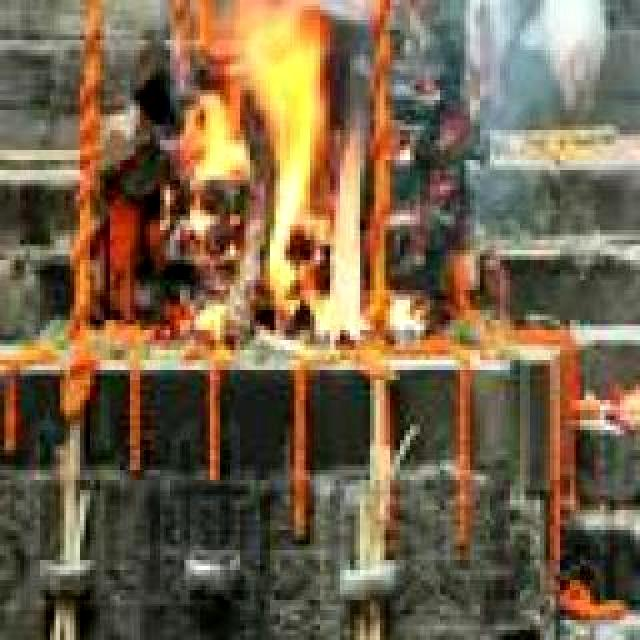fire: (178, 0, 370, 348)
